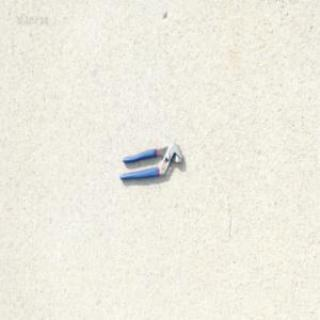Pliertrack_idkeyframe: (118, 140, 182, 180)
